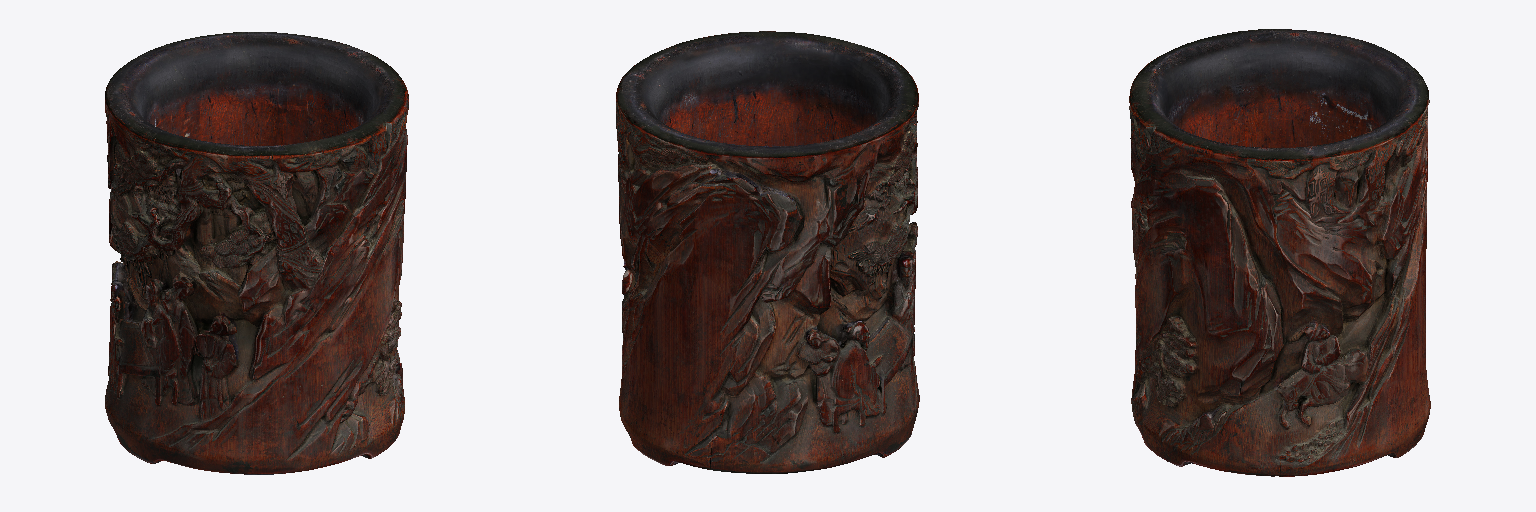
3 renders of one model, left to right at view 1: azimuth 30°, elevation 25°; view 2: azimuth 150°, elevation 25°; view 3: azimuth 270°, elevation 25°, orthographic.
Visible parts, largest first — view 1: ____004; view 2: ____004; view 3: ____004.
Boxes of the visible parts, x1,y1,x2,y2 form: ____004: [105, 32, 408, 474]; ____004: [616, 31, 919, 473]; ____004: [1129, 29, 1430, 476].
Size of the model in its own units: 3.14 by 3.75 by 3.08.
4 materials, 4 textured.